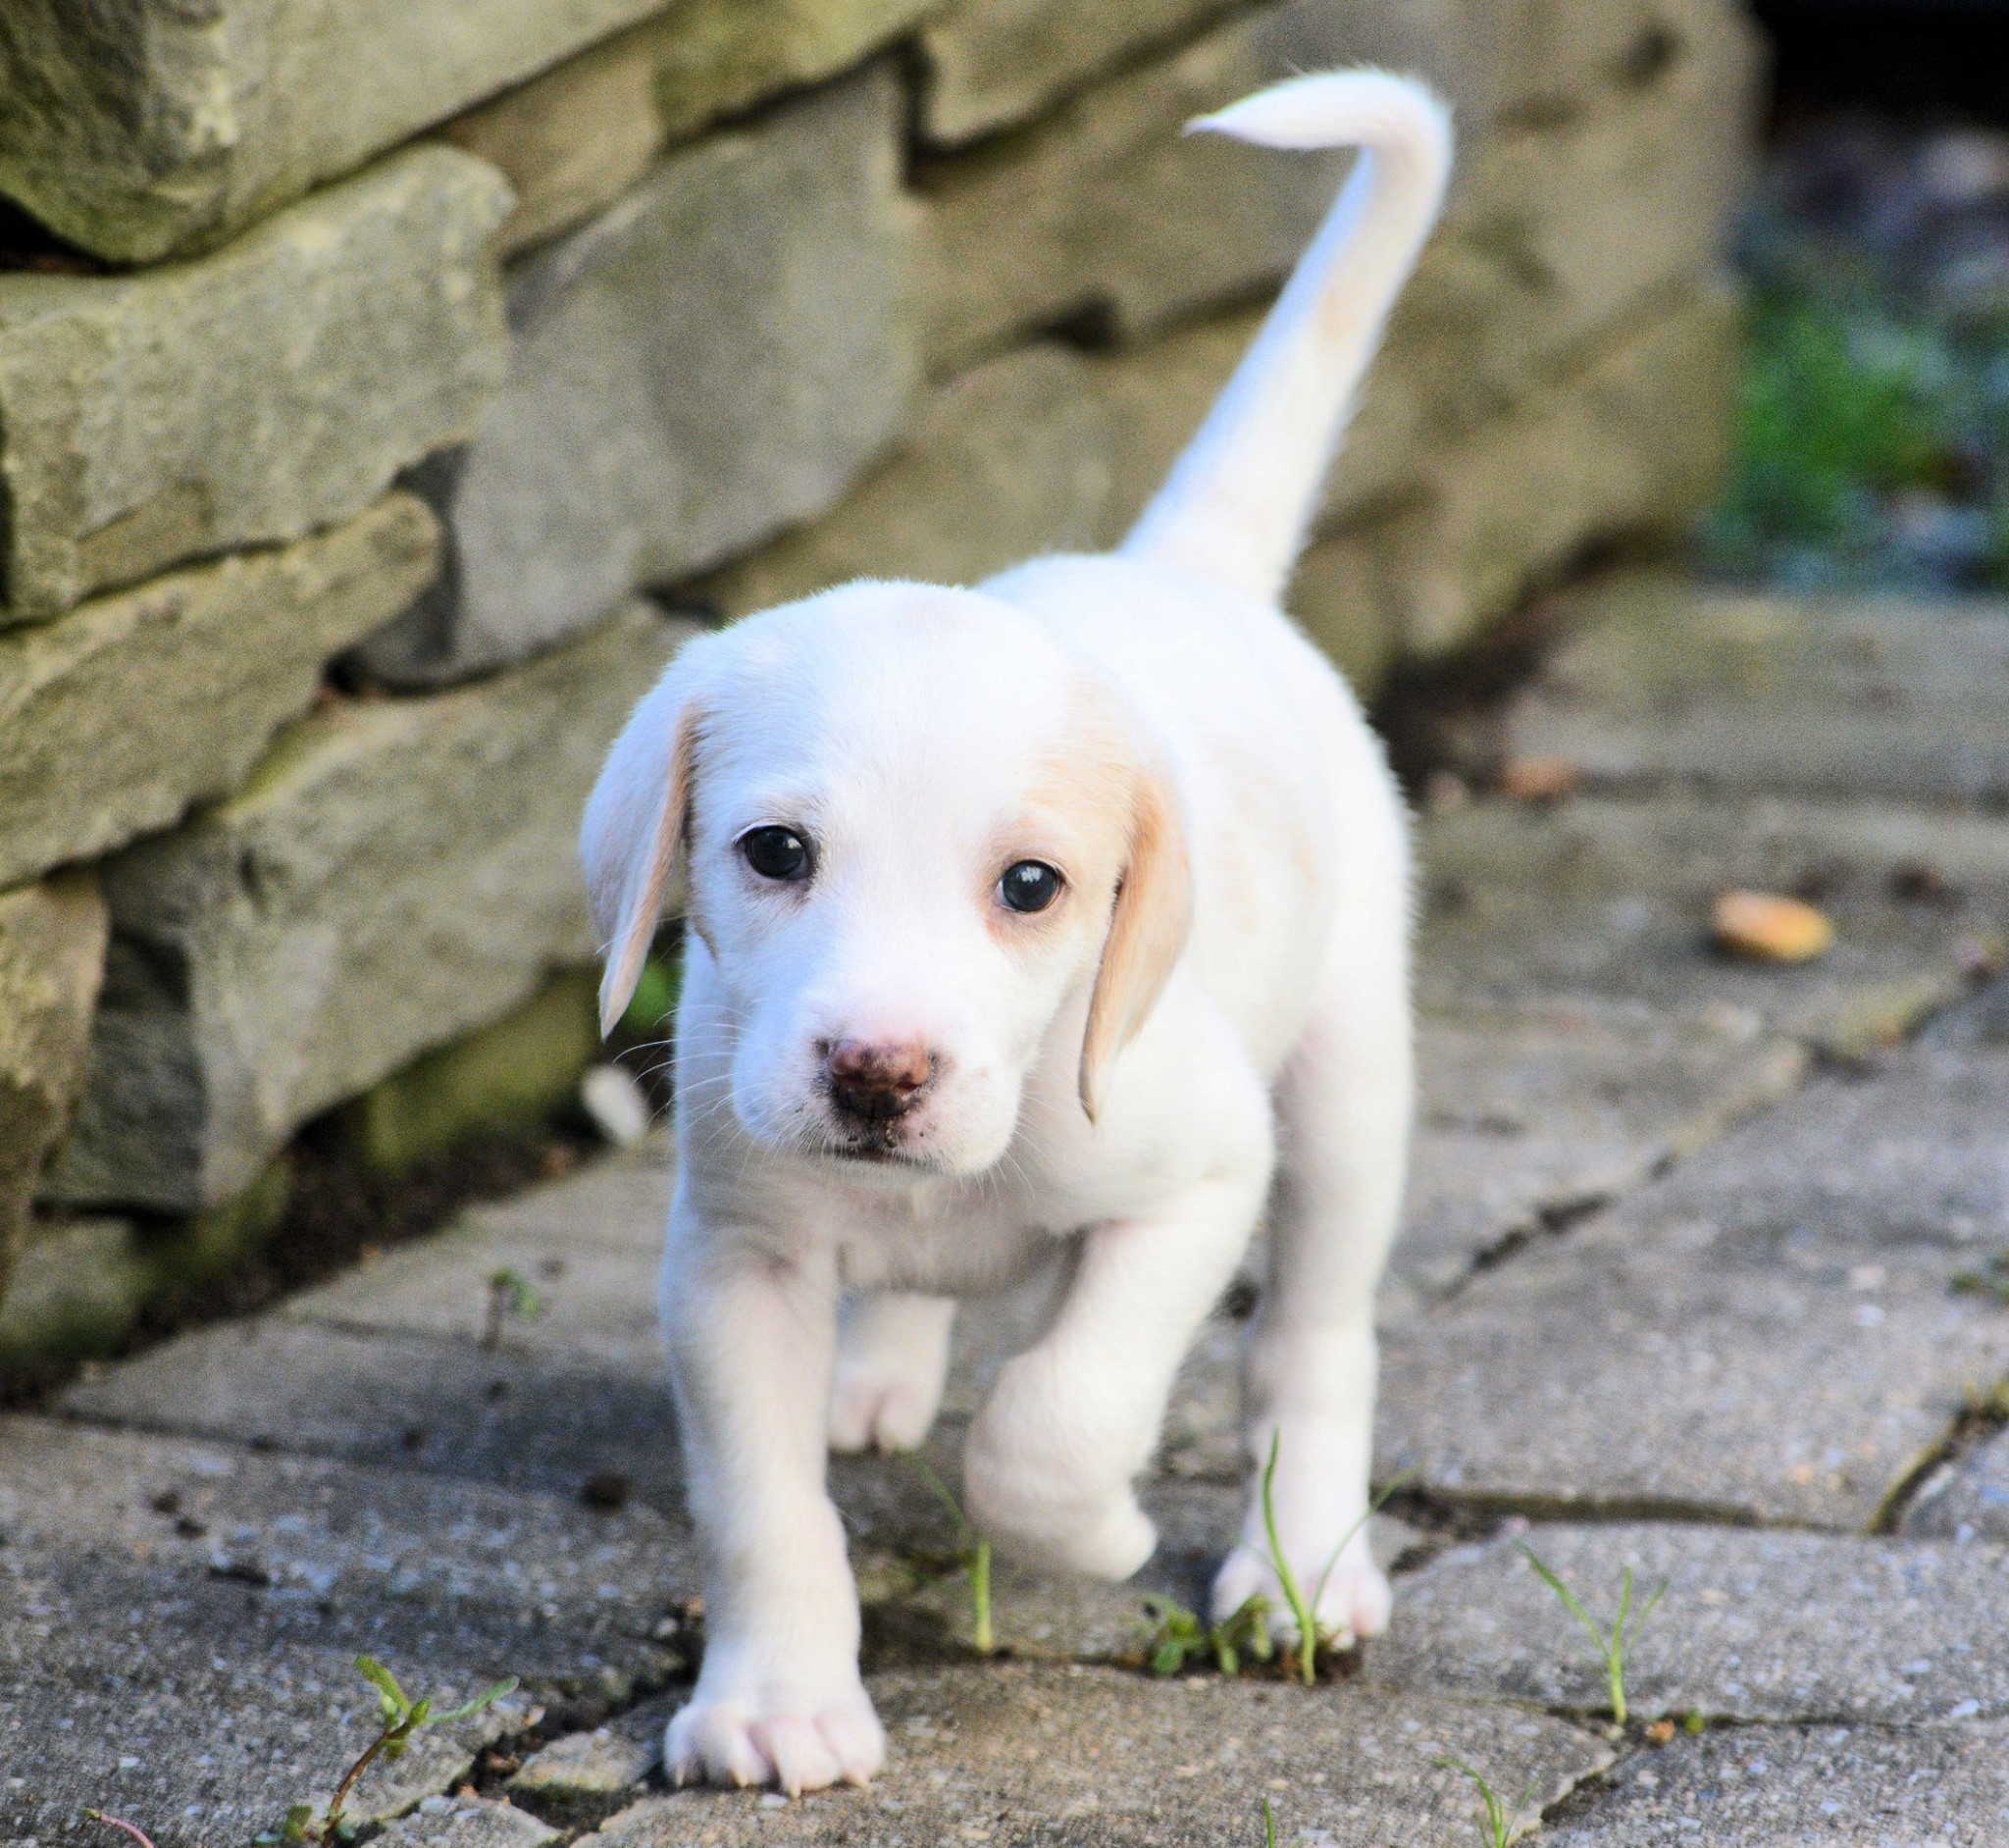dog: (584, 369, 1416, 1778)
